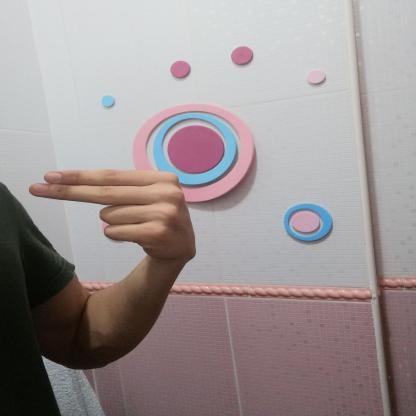AYN: (14, 160, 216, 272)
